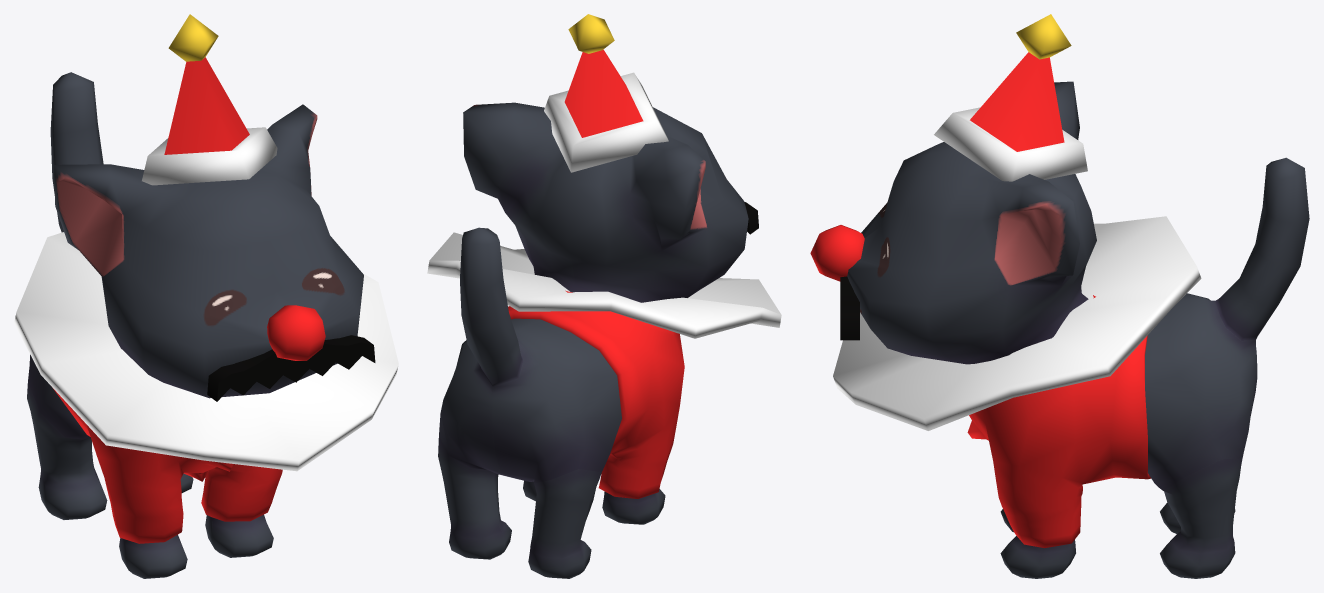
File: Performer Cat03.fbx
The picture shows the model from 3 angles, left to right: view 1: azimuth 30°, elevation 25°; view 2: azimuth 150°, elevation 25°; view 3: azimuth 270°, elevation 25°; orthographic projection. The views are drawn at different scales.
Parts seen in each view (by area): view 1: Cat_Base002, Performer_Cat_Neck, Performer_Cat_Shirt, Performer_Cat_Hat, Performer_Cat_Face; view 2: Cat_Base002, Performer_Cat_Shirt, Performer_Cat_Neck, Performer_Cat_Hat; view 3: Cat_Base002, Performer_Cat_Neck, Performer_Cat_Shirt, Performer_Cat_Hat, Performer_Cat_Face.
Part boxes in pixels (x1=…): Cat_Base002: x1=27, y1=72, x2=363, y2=578; Performer_Cat_Neck: x1=14, y1=232, x2=398, y2=471; Performer_Cat_Shirt: x1=53, y1=388, x2=282, y2=543; Performer_Cat_Hat: x1=142, y1=14, x2=277, y2=185; Performer_Cat_Face: x1=207, y1=305, x2=375, y2=401; Cat_Base002: x1=438, y1=102, x2=748, y2=578; Performer_Cat_Shirt: x1=508, y1=290, x2=684, y2=498; Performer_Cat_Neck: x1=427, y1=232, x2=781, y2=338; Performer_Cat_Hat: x1=544, y1=14, x2=668, y2=172; Cat_Base002: x1=847, y1=81, x2=1309, y2=578; Performer_Cat_Neck: x1=833, y1=216, x2=1201, y2=430; Performer_Cat_Shirt: x1=967, y1=295, x2=1151, y2=548; Performer_Cat_Hat: x1=934, y1=14, x2=1087, y2=181; Performer_Cat_Face: x1=810, y1=225, x2=864, y2=340.
Size of the model in its own units: 2.3 by 2.99 by 3.53.
5 materials, 1 textured.
